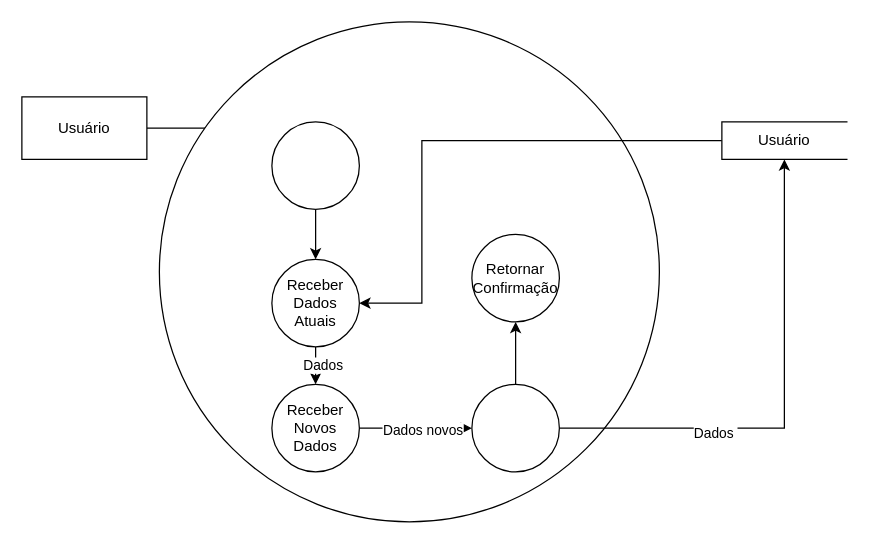
Some shapes in this 869 by 544 pixel diagram are drawn without their labels. The centre of each missing label's shape, as x and y in pixels:
Acessar Perfil: [315,165]
Atualizar Novos Dados: [515,427]
